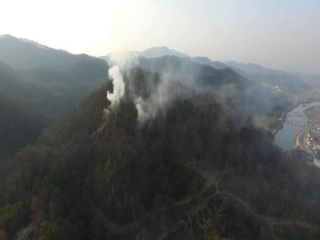smoke: (90, 44, 261, 136)
